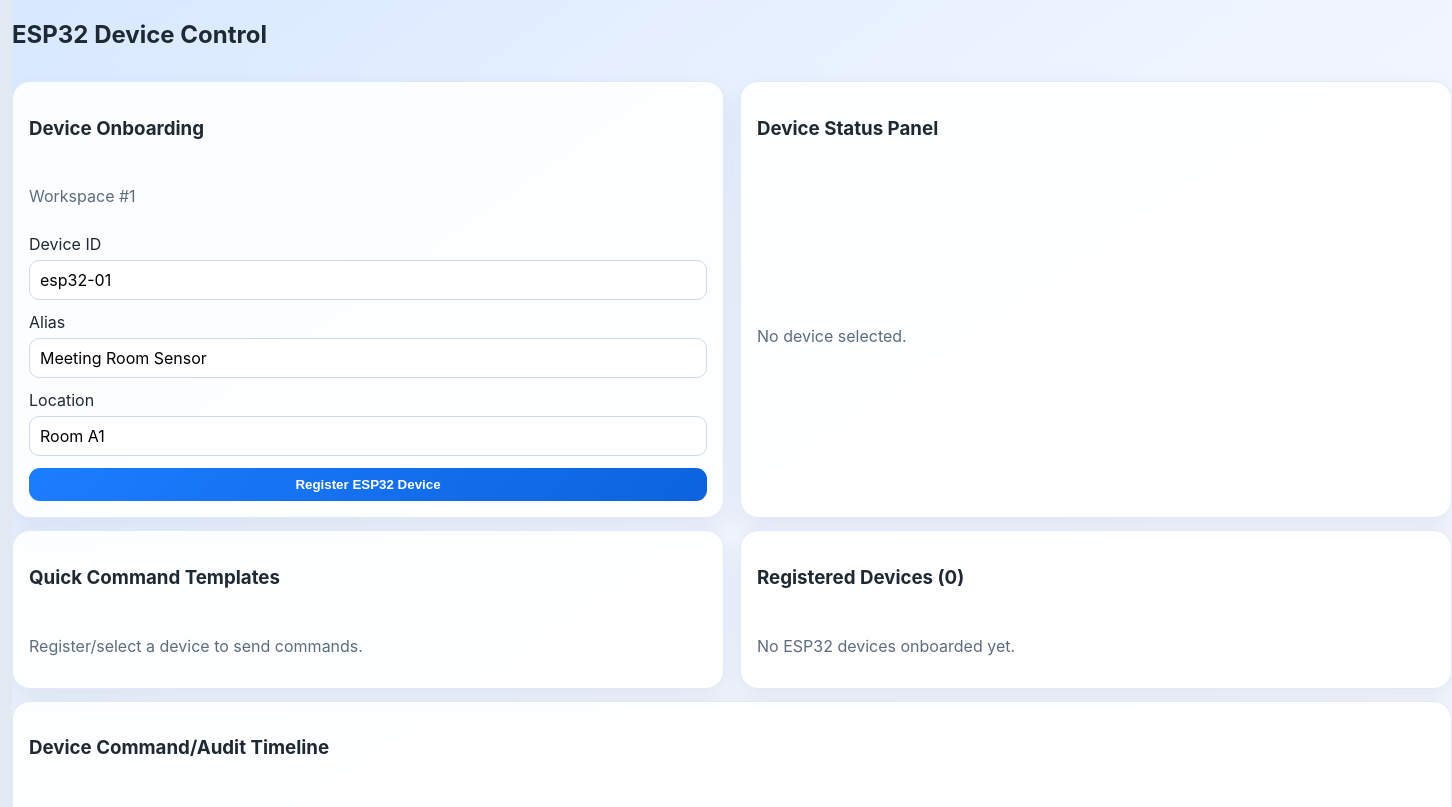
DevicesPage › sends template command and updates timeline
Click the button "Register ESP32 Device" at point(368, 485), box [29,468,707,501]
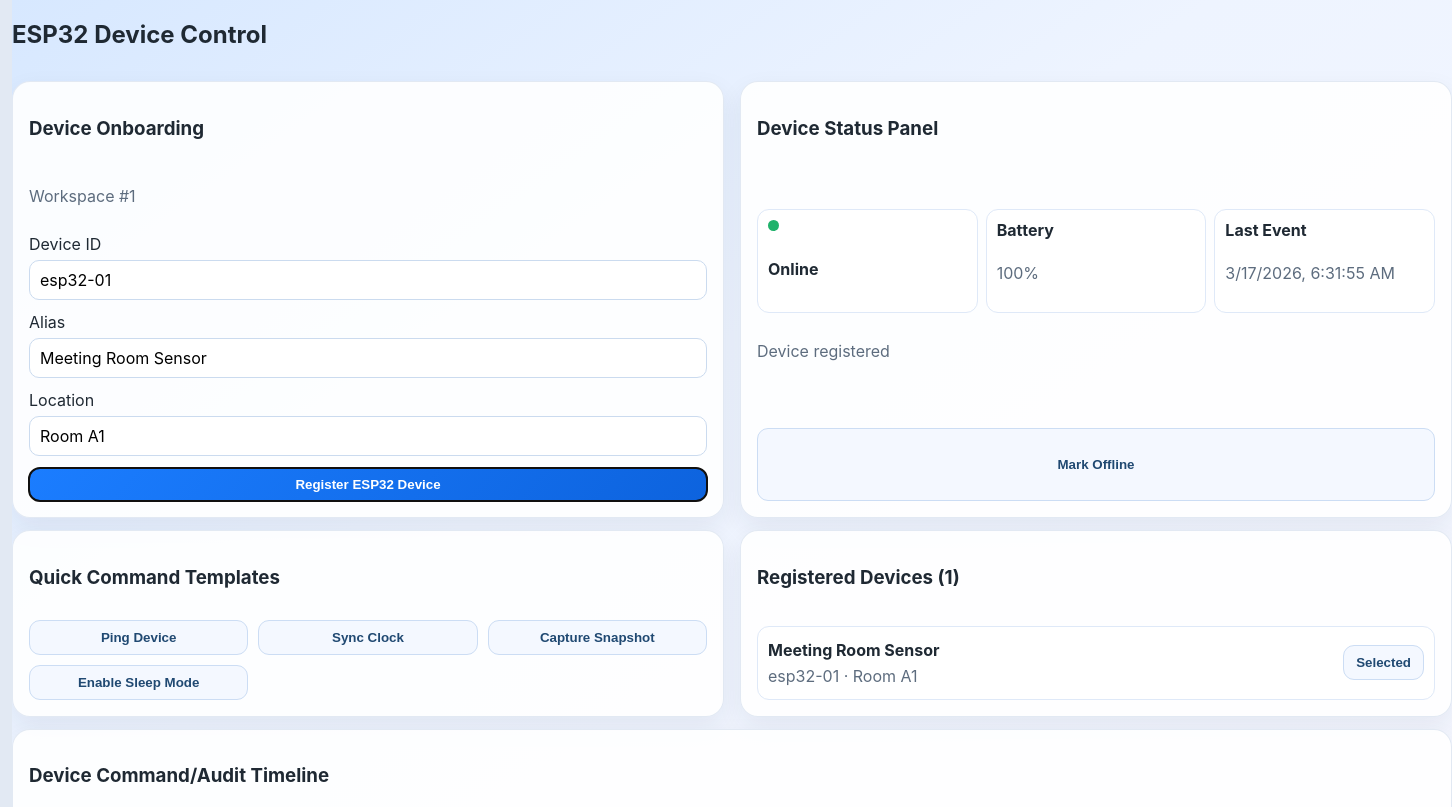
Click the button "Ping Device" at point(139, 637), box [29,620,248,655]
(page scrolled)
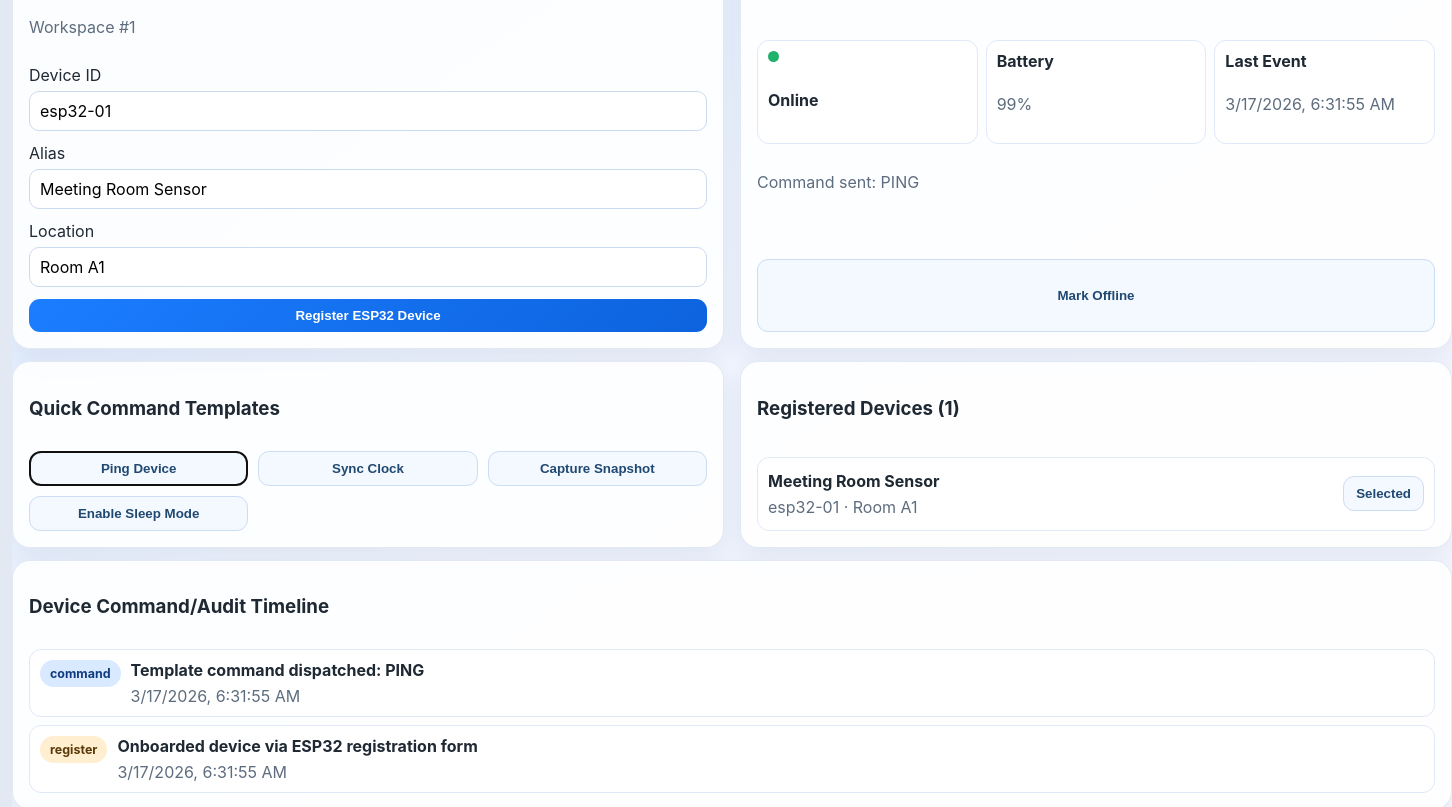
Expected: the text "Template command dispatched: PING" is shown, [131,660,424,680]
